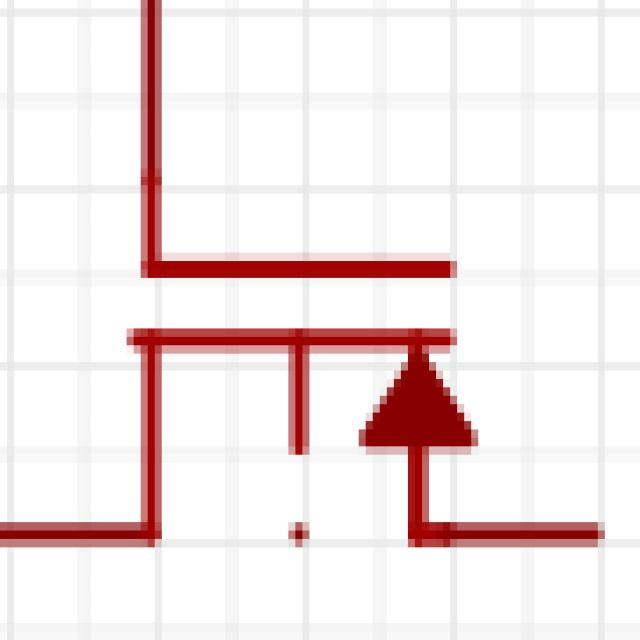pmos: (10, 2, 600, 622)
